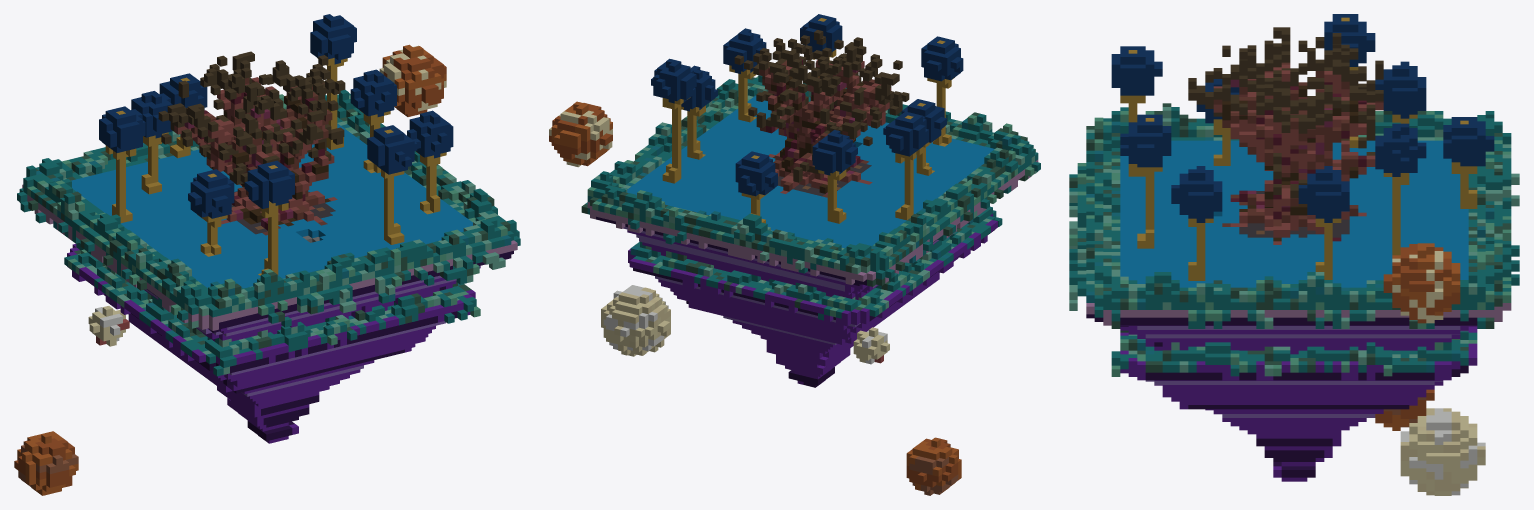
Rendered from planeta-do-bills-medio.glb.
3 views of the same model, side by side, from view 1: azimuth 30°, elevation 25°; view 2: azimuth 150°, elevation 25°; view 3: azimuth 270°, elevation 25° (orthographic). The views are drawn at different scales.
Visible parts, largest first — view 1: planeta-do-bills; view 2: planeta-do-bills; view 3: planeta-do-bills.
Part boxes in pixels (<box>): planeta-do-bills: <box>14,14,520,495</box>; planeta-do-bills: <box>549,14,1040,495</box>; planeta-do-bills: <box>1069,14,1519,495</box>.
Bounding box in the file's own units: 6.6 × 6.2 × 5.3.
